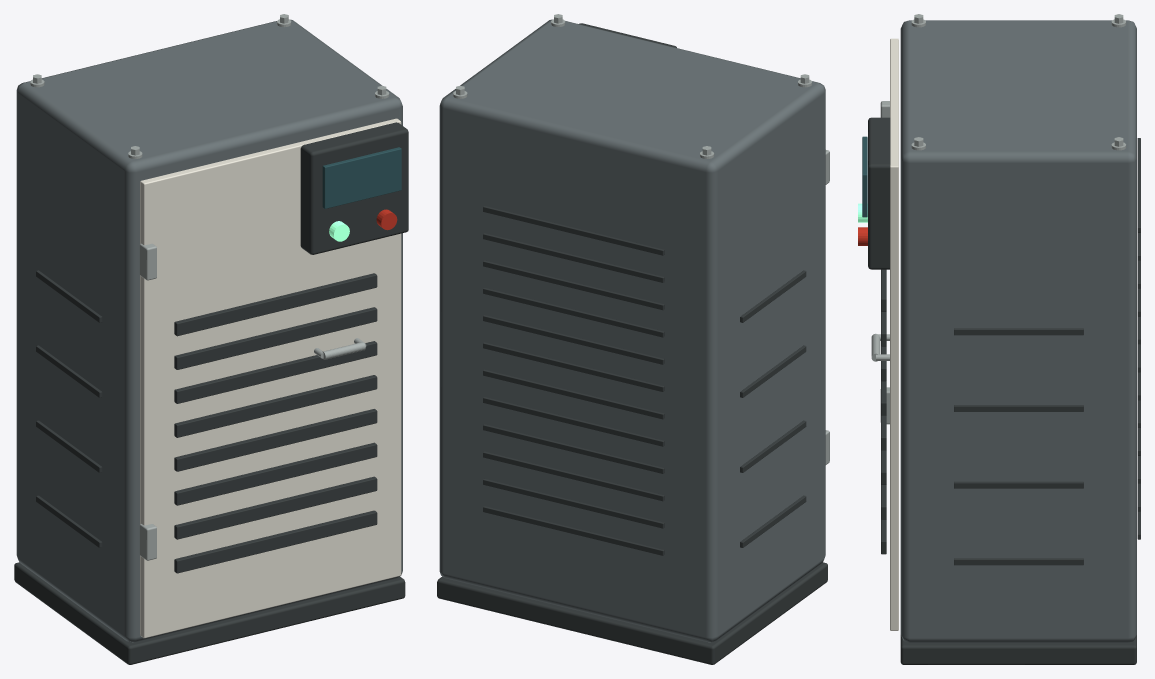
File: automated-parking-and-vehicle-retrieval-automated-park-75348633__30375.glb
3 renders of one model, left to right at view 1: azimuth 30°, elevation 25°; view 2: azimuth 150°, elevation 25°; view 3: azimuth 270°, elevation 25°, orthographic. The views are drawn at different scales.
Visible parts, largest first — view 1: automated-parking-and-vehicle-retrieval-motor-drive-cabinet_ (×5); view 2: automated-parking-and-vehicle-retrieval-motor-drive-cabinet_ (×3); view 3: automated-parking-and-vehicle-retrieval-motor-drive-cabinet_ (×5).
Part boxes in pixels (x1,y1,x2,y2): automated-parking-and-vehicle-retrieval-motor-drive-cabinet_ (×5): (14,14,408,664); automated-parking-and-vehicle-retrieval-motor-drive-cabinet_ (×3): (437,14,829,664); automated-parking-and-vehicle-retrieval-motor-drive-cabinet_ (×5): (862,14,1140,664).
Size of the model in its own units: 0.9221 by 1.58 by 0.7775.
